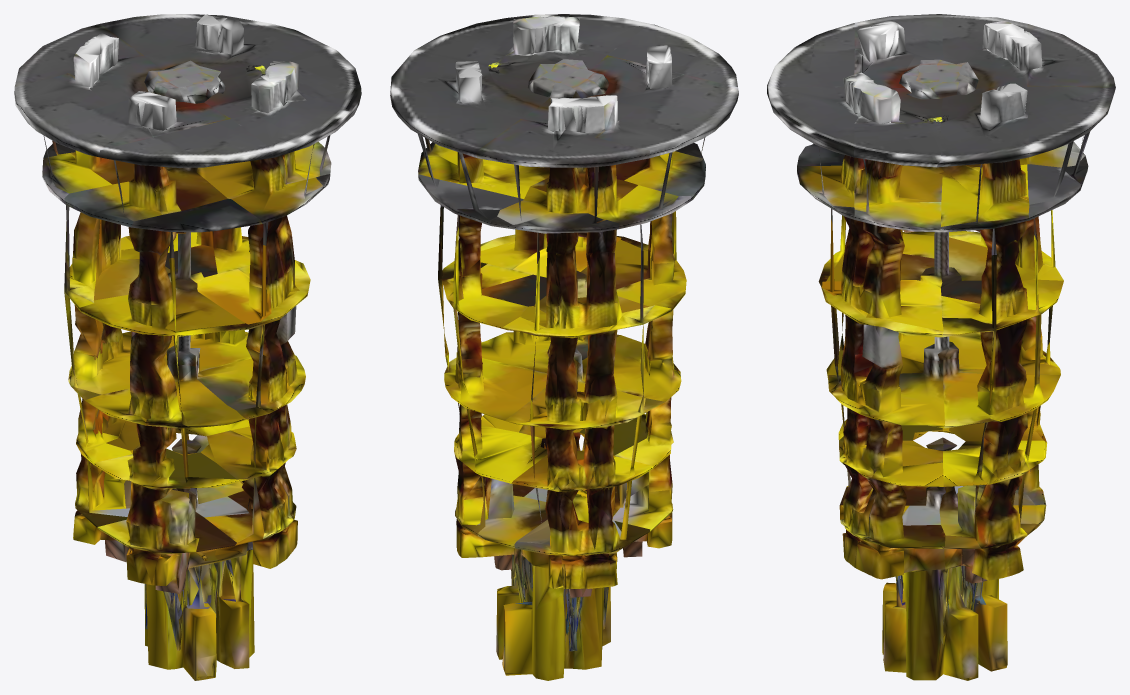
File: technology-11.glb
3 renders of one model, left to right at view 1: azimuth 30°, elevation 25°; view 2: azimuth 150°, elevation 25°; view 3: azimuth 270°, elevation 25°, orthographic.
Bounding box in the file's own units: 0.8812 × 1.67 × 0.8844.
Materials: 1 (1 with a texture image).
